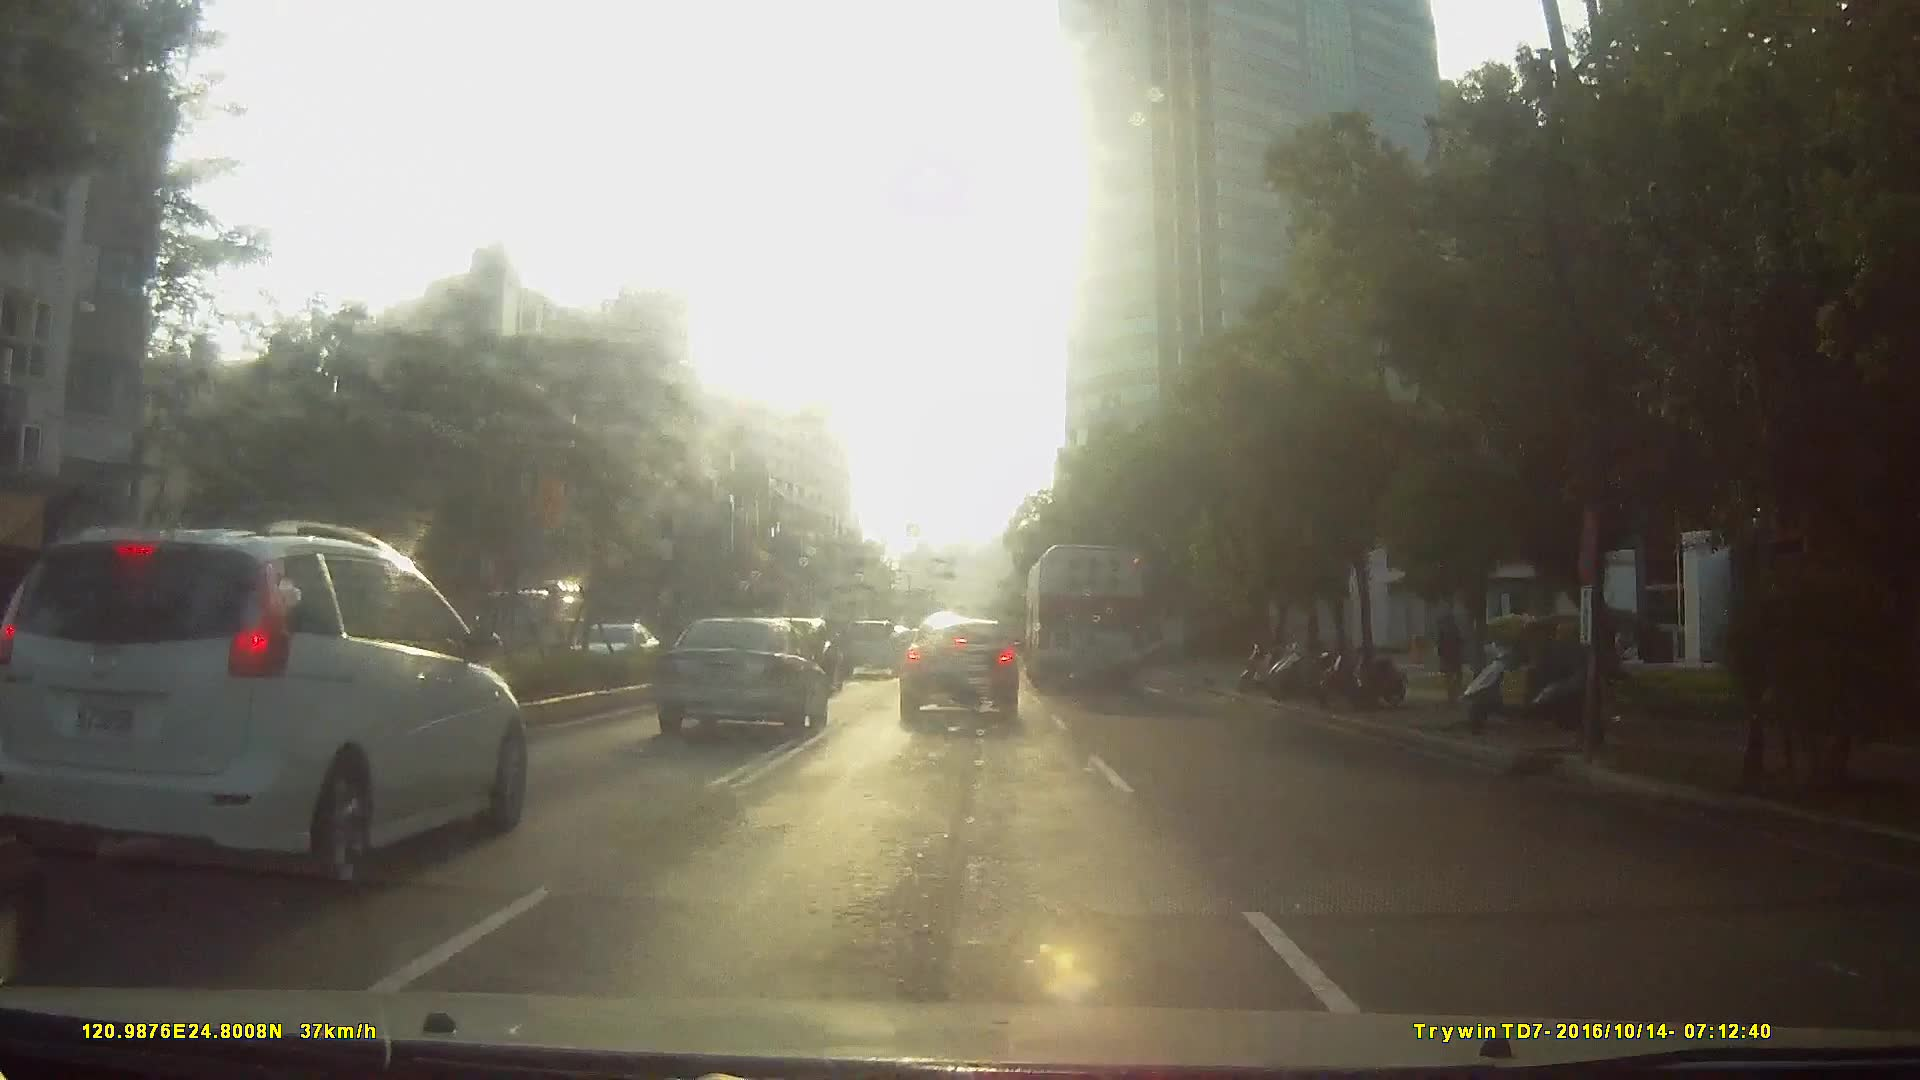pedestrian: (1434, 611, 1472, 708)
vehicle: (44, 500, 526, 909), (250, 556, 684, 868), (648, 610, 826, 738), (1022, 537, 1146, 692), (895, 615, 1022, 716), (475, 569, 577, 657), (835, 615, 901, 673)
